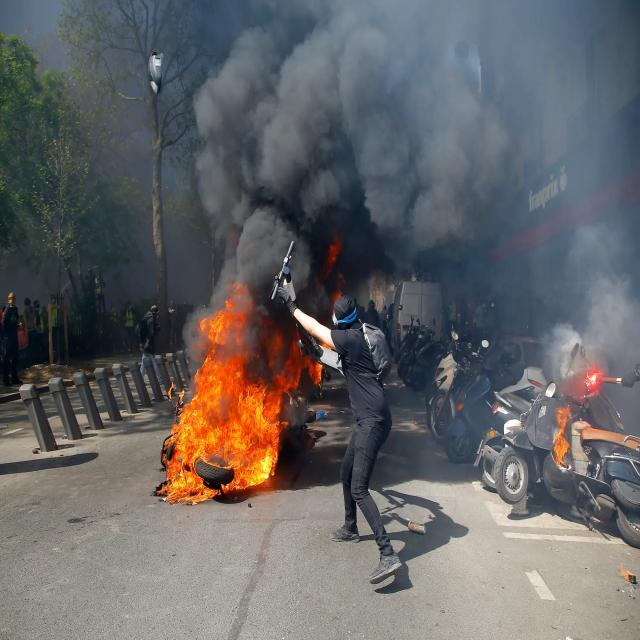Fire: (157, 281, 323, 504), (554, 406, 570, 466)
Smoke: (183, 0, 640, 388)
